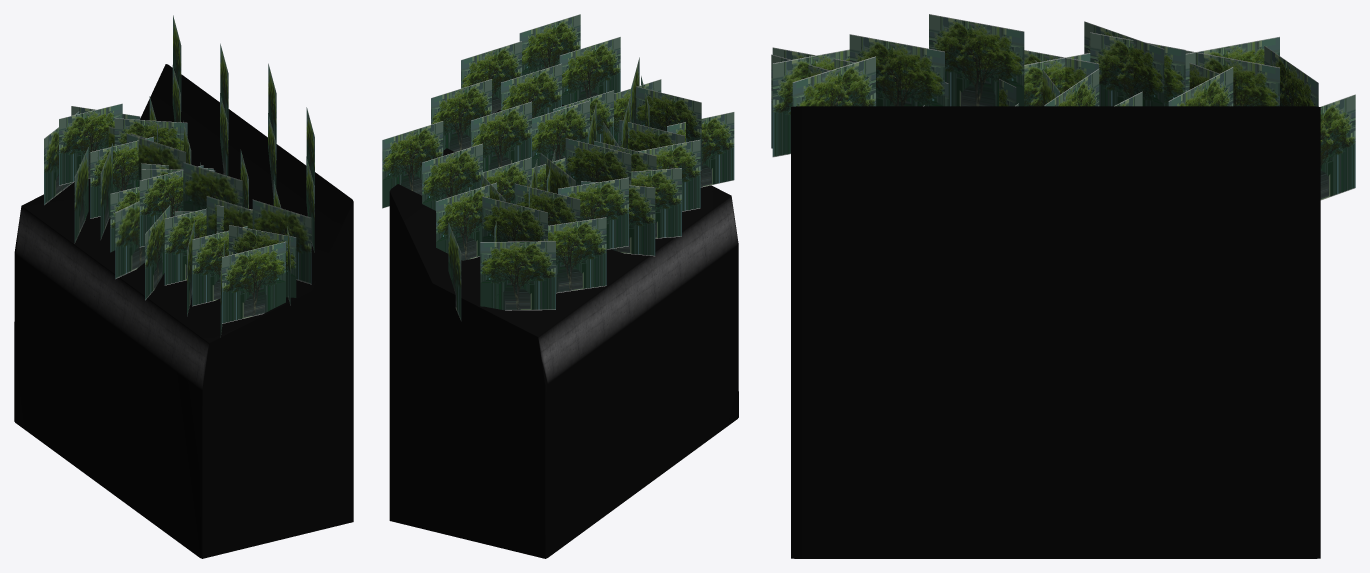
Rendered from AMB_DOTE_TREE_L.glb.
3 renders of one model, left to right at view 1: azimuth 30°, elevation 25°; view 2: azimuth 150°, elevation 25°; view 3: azimuth 270°, elevation 25°, orthographic. The views are drawn at different scales.
Parts seen in each view (by area): view 1: Mesh1; view 2: Mesh1; view 3: Mesh1.
Part boxes in pixels (x1,y1,x2,y2): Mesh1: (14,15,353,558); Mesh1: (382,14,738,558); Mesh1: (771,14,1355,558).
Size of the model in its own units: 54.03 by 114 by 113.
Materials: 2 (2 with a texture image).
